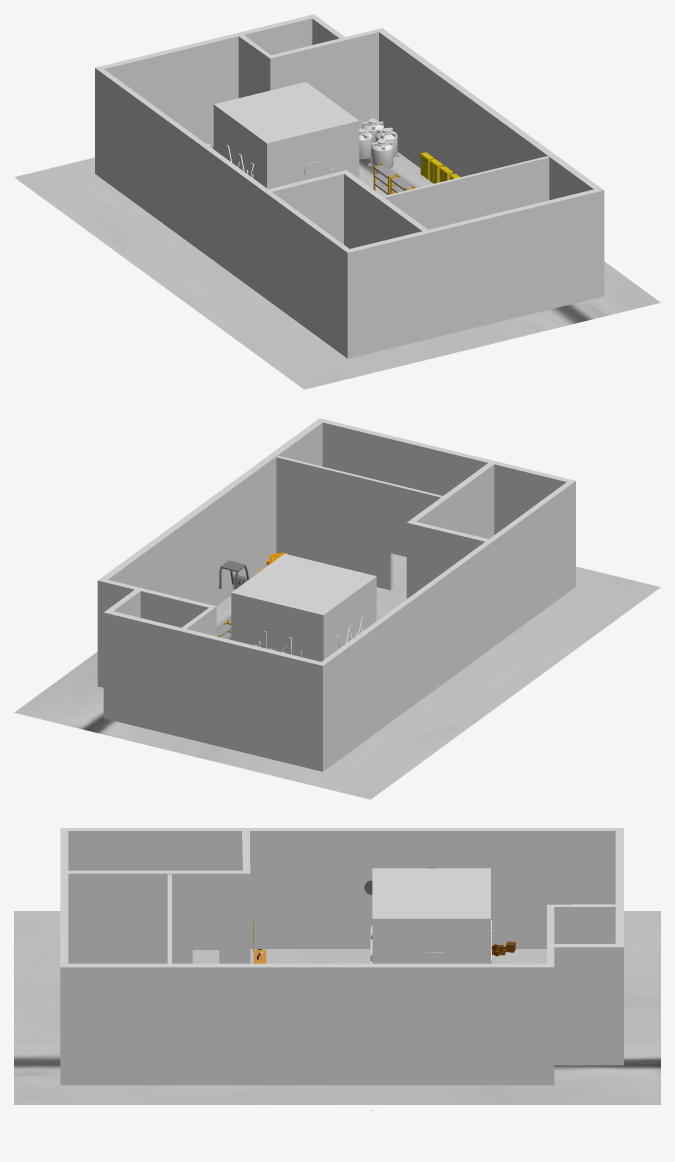
Rendered from CurrentAssetsFall2025.fbx.
3 views of the same model, one above another, from view 1: azimuth 30°, elevation 25°; view 2: azimuth 150°, elevation 25°; view 3: azimuth 270°, elevation 25° (orthographic). The views are drawn at different scales.
Visible parts, largest first — view 1: Cube.022, Plane, WorldBox, Cube.028, Room, WaterTank_3, WaterTank_1; view 2: Cube.022, Plane, Cube.028, WorldBox, Room; view 3: Cube.022, Plane, WorldBox, Room.
Boxes of the visible parts, x1=… form: Cube.022: x1=95, y1=14, x2=604, y2=358; Plane: x1=14, y1=152, x2=660, y2=389; WorldBox: x1=213, y1=82, x2=358, y2=189; Cube.028: x1=383, y1=156, x2=549, y2=229; Room: x1=213, y1=105, x2=359, y2=186; WaterTank_3: x1=359, y1=118, x2=399, y2=159; WaterTank_1: x1=367, y1=138, x2=393, y2=168; Cube.022: x1=97, y1=418, x2=575, y2=771; Plane: x1=14, y1=554, x2=660, y2=799; Cube.028: x1=276, y1=456, x2=442, y2=590; WorldBox: x1=231, y1=553, x2=376, y2=661; Room: x1=231, y1=577, x2=376, y2=661; Cube.022: x1=60, y1=828, x2=623, y2=1085; Plane: x1=14, y1=911, x2=660, y2=1104; WorldBox: x1=371, y1=868, x2=491, y2=963; Room: x1=370, y1=918, x2=491, y2=963.
Bounding box in the file's own units: 5772 × 3453 × 8139.
